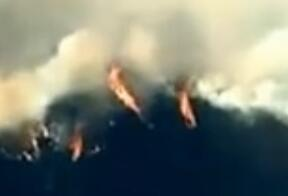fire: (107, 63, 144, 121), (175, 80, 196, 127), (67, 131, 84, 163)
yanwu: (1, 1, 288, 130)
